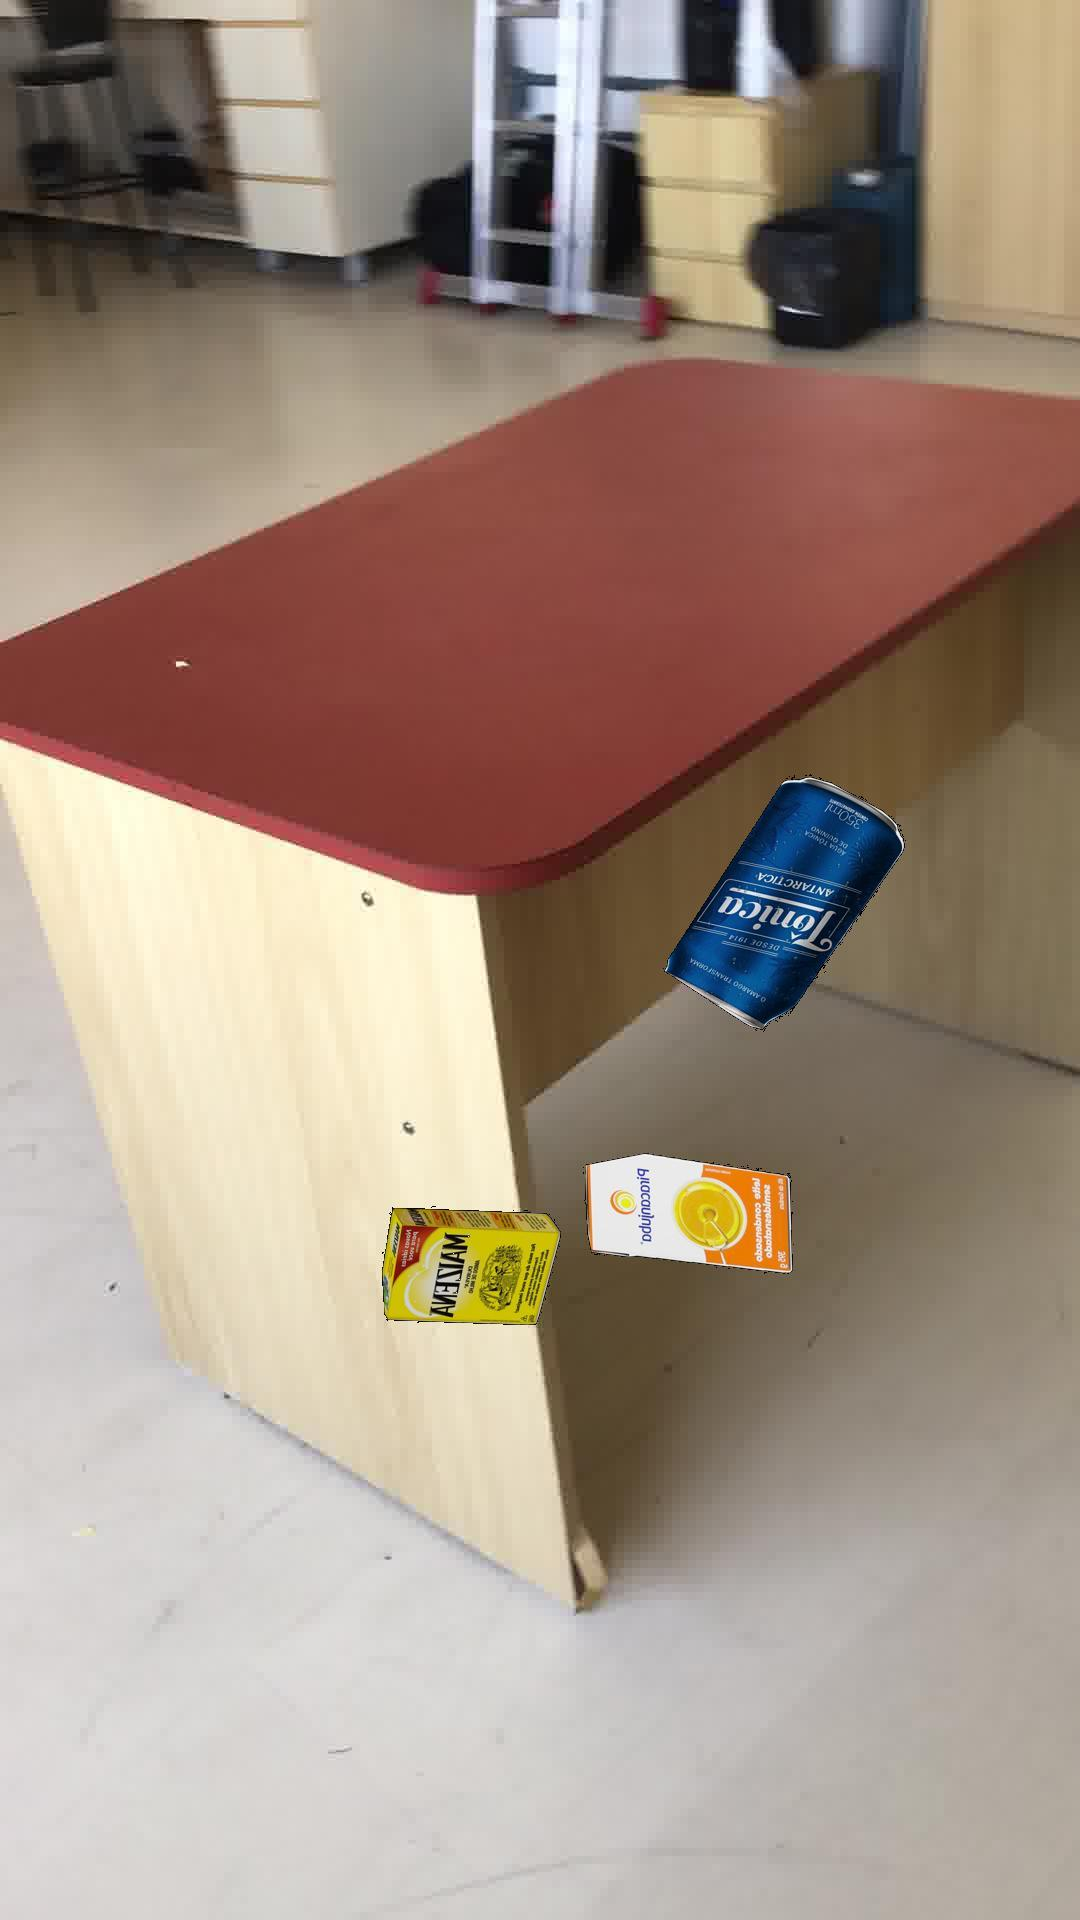tonic: (662, 774, 903, 1029)
